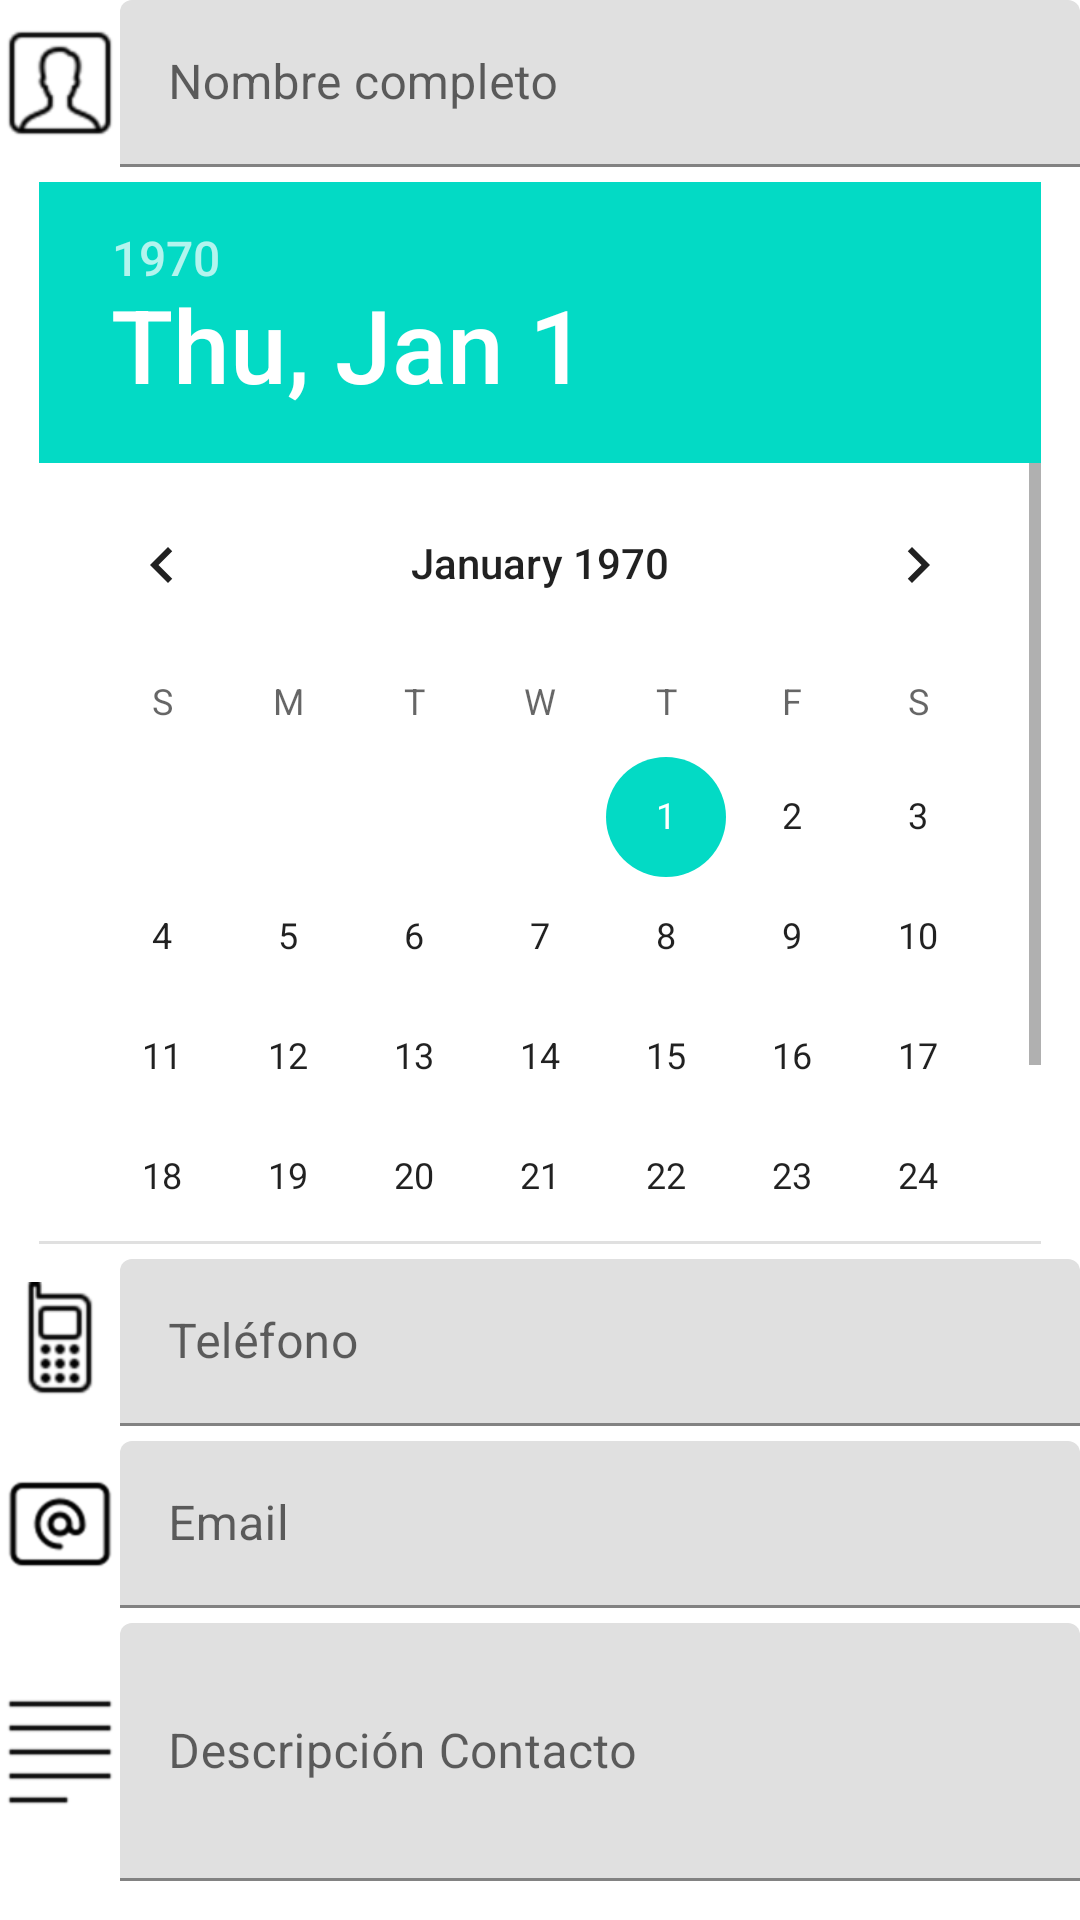

Icons on this 1080w x 1920h Android screen, each with the point to tap as (x,y):
tel fono celular: (60,1338)
texto multil nea: (60,1752)
